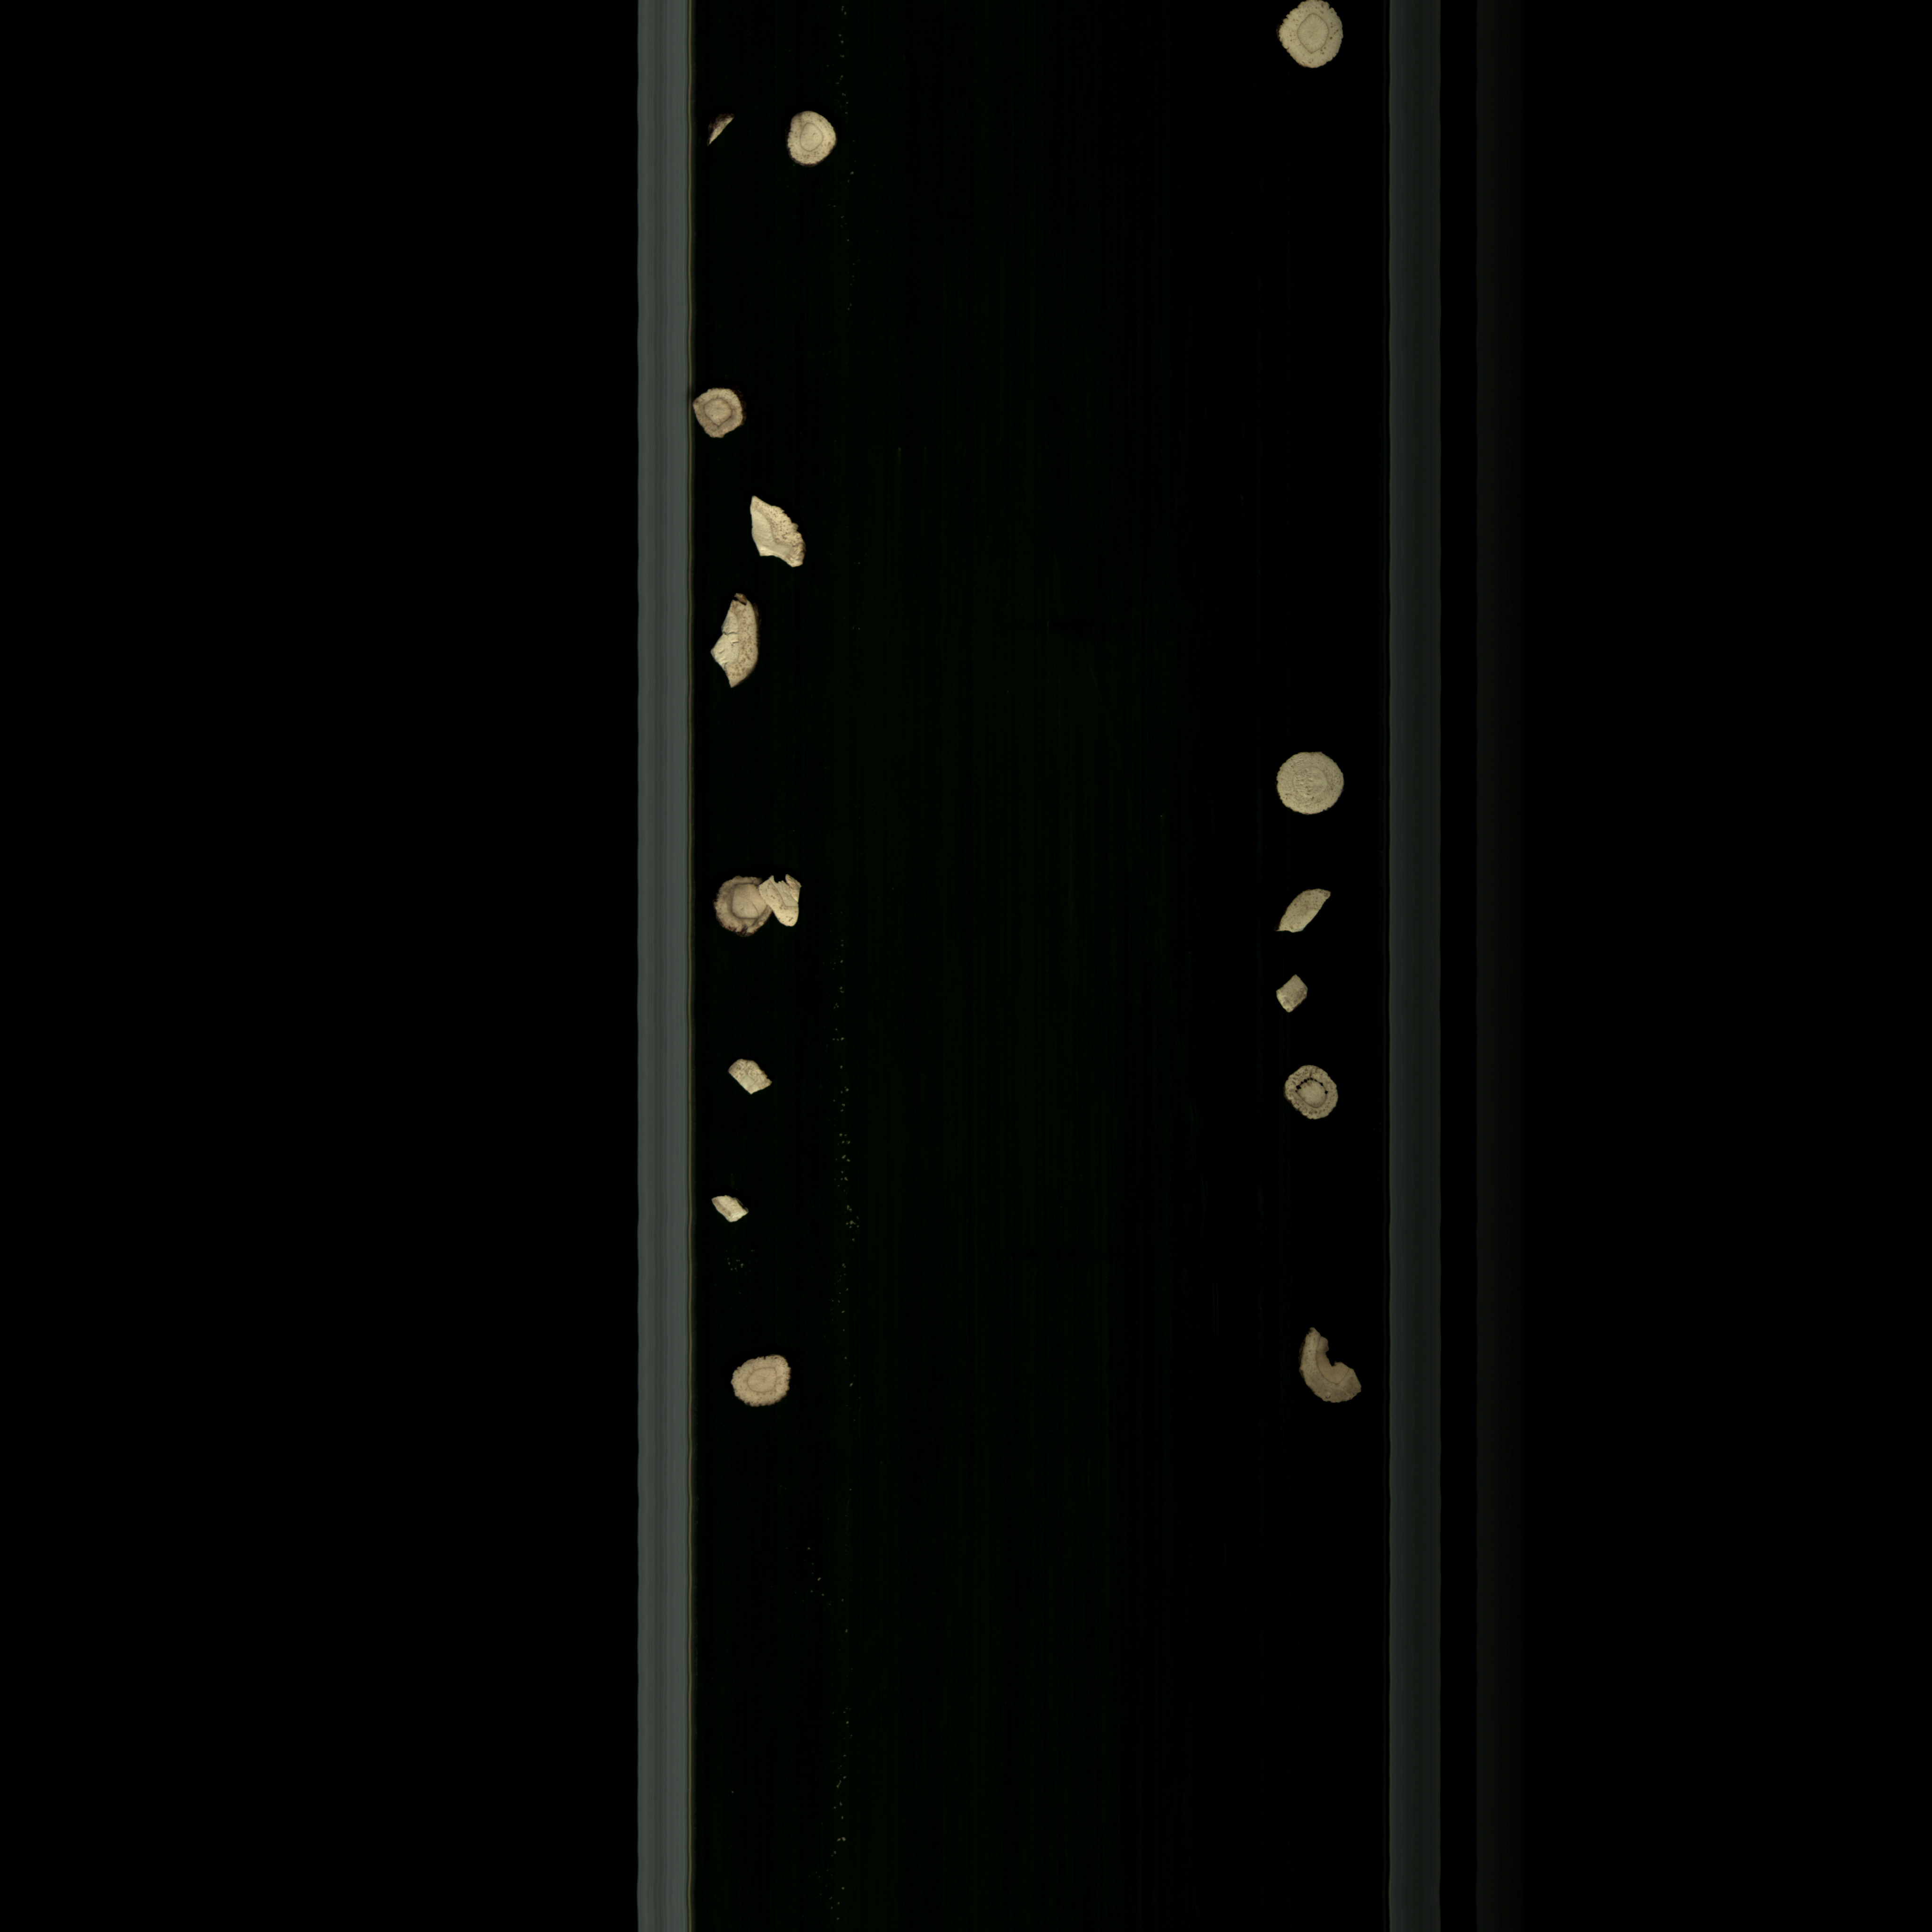debris: (1284, 1323, 1375, 1410), (702, 587, 763, 699), (741, 492, 816, 577)
dreg: (755, 870, 812, 938), (1276, 885, 1338, 943), (722, 1054, 780, 1109), (1269, 968, 1316, 1019), (704, 1191, 755, 1228), (701, 106, 740, 154)
hole: (1272, 1058, 1346, 1127)
moldy: (708, 860, 778, 955), (692, 382, 754, 446)
